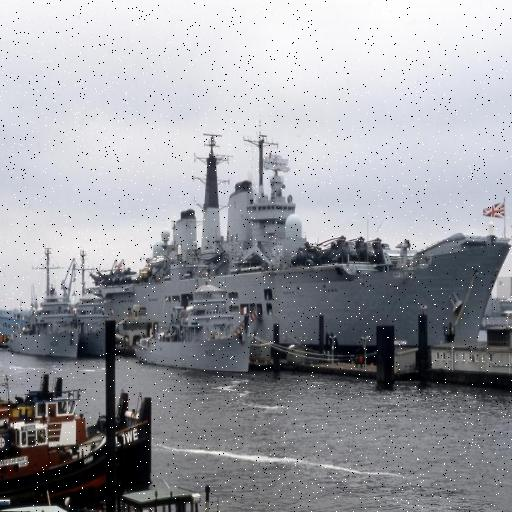Portanaves: (59, 127, 512, 361)
